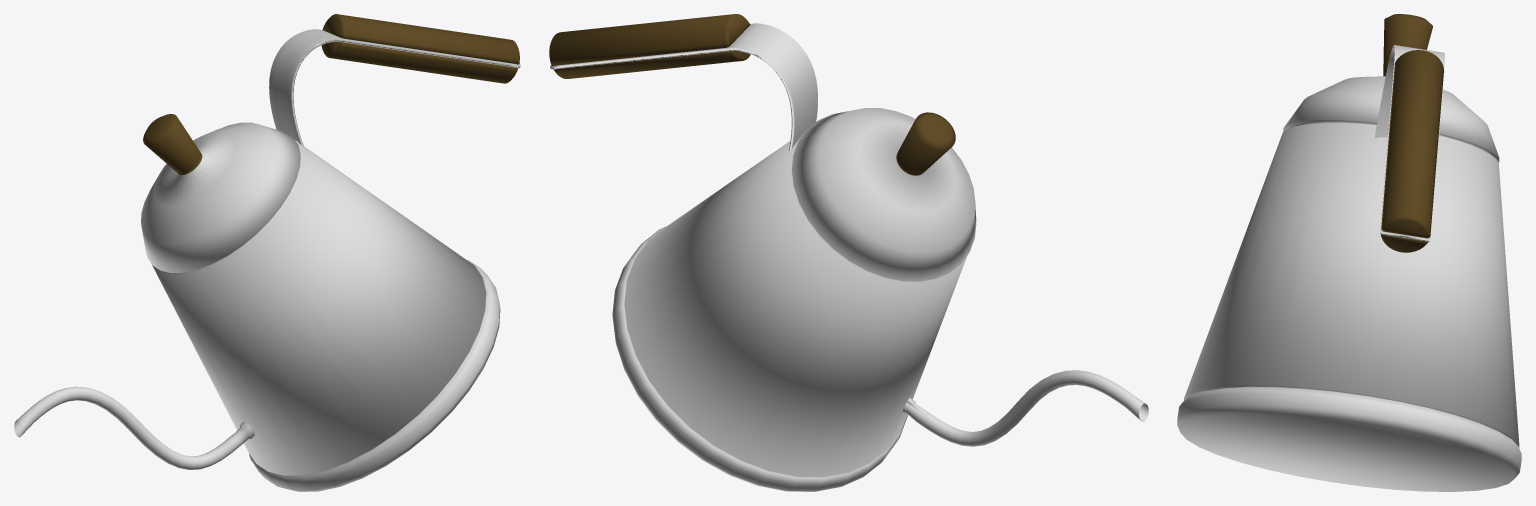
Rendered from Kettle.glb.
3 renders of one model, left to right at view 1: azimuth 30°, elevation 25°; view 2: azimuth 150°, elevation 25°; view 3: azimuth 270°, elevation 25°, orthographic. The views are drawn at different scales.
Parts seen in each view (by area): view 1: Kettle, WoodPiece01, Spout, Handle, WoodPiece02; view 2: Kettle, WoodPiece01, Handle, Spout, WoodPiece02; view 3: Kettle, WoodPiece01, Handle, WoodPiece02.
Boxes of the visible parts, <box> form: Kettle: <box>141,114,500,491</box>; WoodPiece01: <box>322,14,519,64</box>; Spout: <box>14,386,254,469</box>; Handle: <box>269,29,520,146</box>; WoodPiece02: <box>321,41,518,83</box>; Kettle: <box>612,108,976,491</box>; WoodPiece01: <box>549,14,750,65</box>; Handle: <box>550,23,817,150</box>; Spout: <box>902,370,1148,446</box>; WoodPiece02: <box>553,50,750,78</box>; Kettle: <box>1177,14,1521,491</box>; WoodPiece01: <box>1381,50,1443,238</box>; Handle: <box>1375,45,1444,241</box>; WoodPiece02: <box>1381,234,1428,252</box>.
Bounding box in the file's own units: 0.1853 × 0.1439 × 0.0918.
